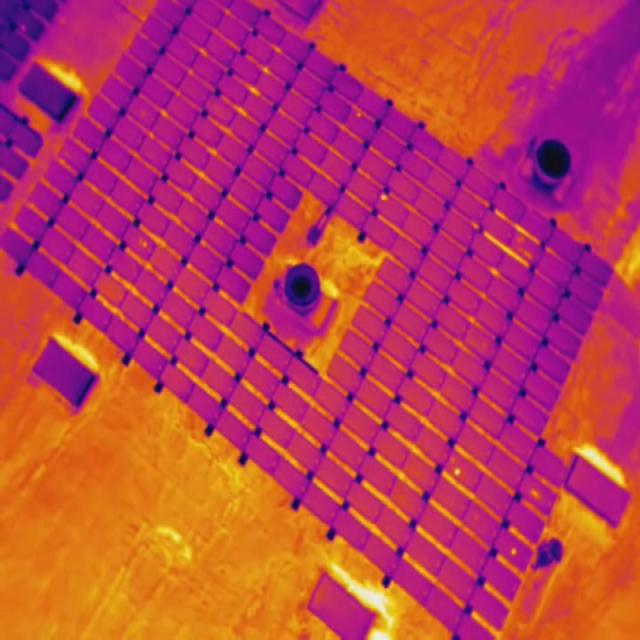Orange-Spots: (530, 489, 541, 499), (139, 238, 148, 248), (524, 250, 533, 259), (454, 467, 461, 477), (510, 547, 517, 556), (356, 111, 362, 118), (518, 236, 524, 243), (519, 247, 523, 253), (452, 458, 456, 463)
